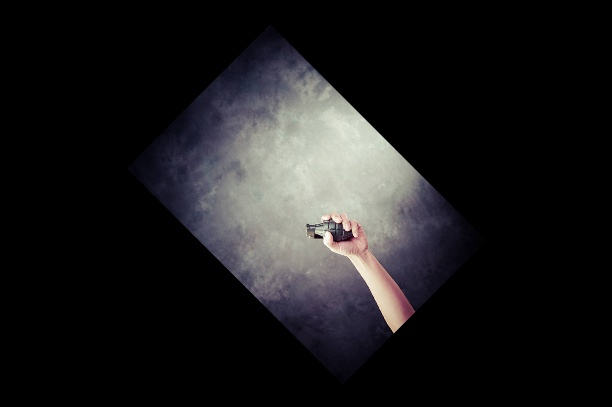e1: (302, 214, 355, 242)
